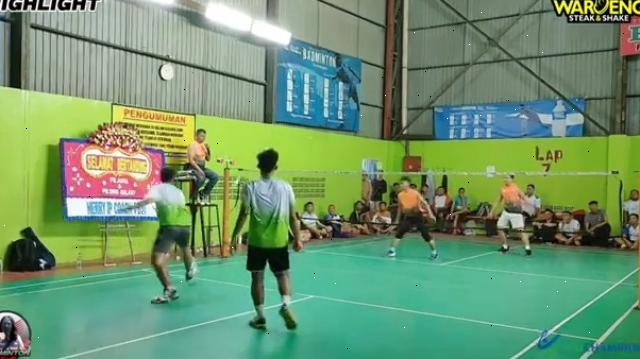Shuttlecock: (230, 176, 242, 188)
